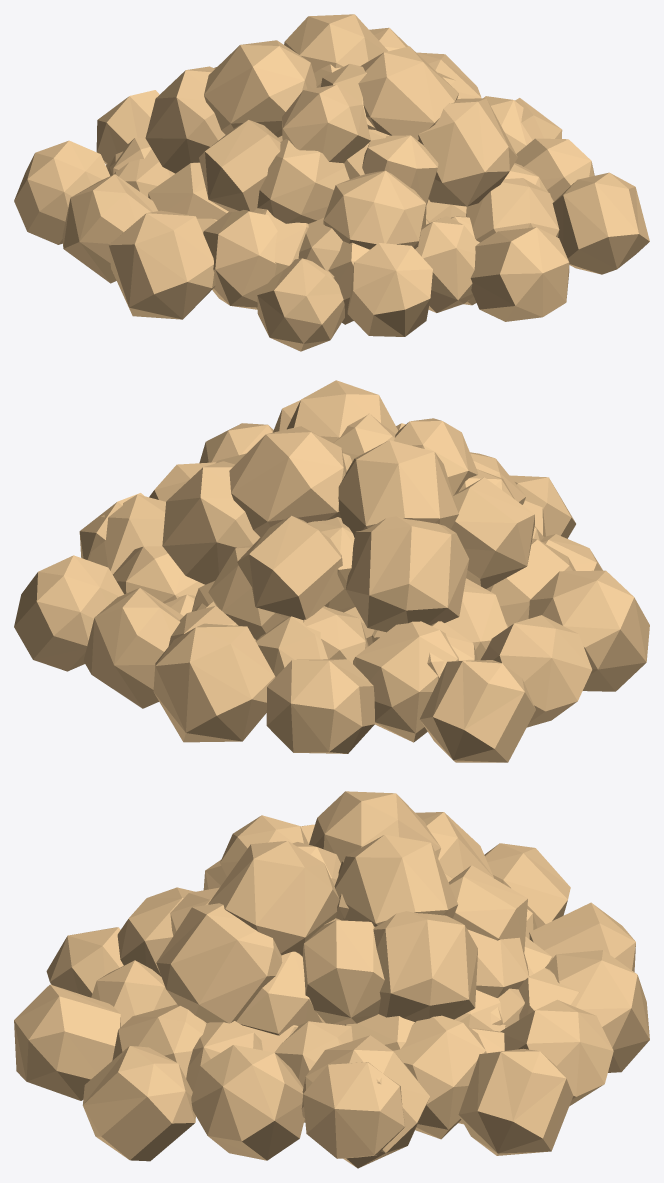
Rendered from Pile of Onions.fbx.
3 views of the same model, one above another, from view 1: azimuth 30°, elevation 25°; view 2: azimuth 150°, elevation 25°; view 3: azimuth 270°, elevation 25° (orthographic). The views are drawn at different scales.
Parts seen in each view (by area): view 1: Pile of Onions; view 2: Pile of Onions; view 3: Pile of Onions.
Boxes of the visible parts, x1=… form: Pile of Onions: x1=14, y1=14, x2=649, y2=351; Pile of Onions: x1=14, y1=380, x2=649, y2=762; Pile of Onions: x1=14, y1=791, x2=649, y2=1168.
Size of the model in its own units: 64.43 by 29.36 by 67.76.
